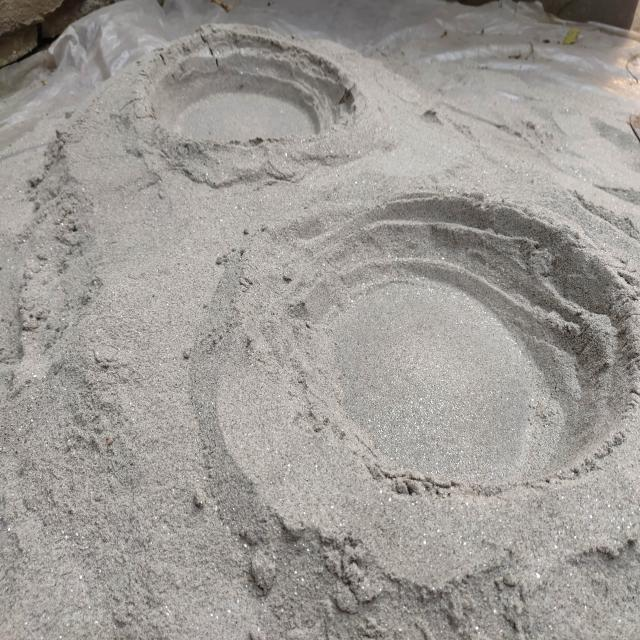C20: (319, 228, 600, 482), (153, 32, 347, 146)
